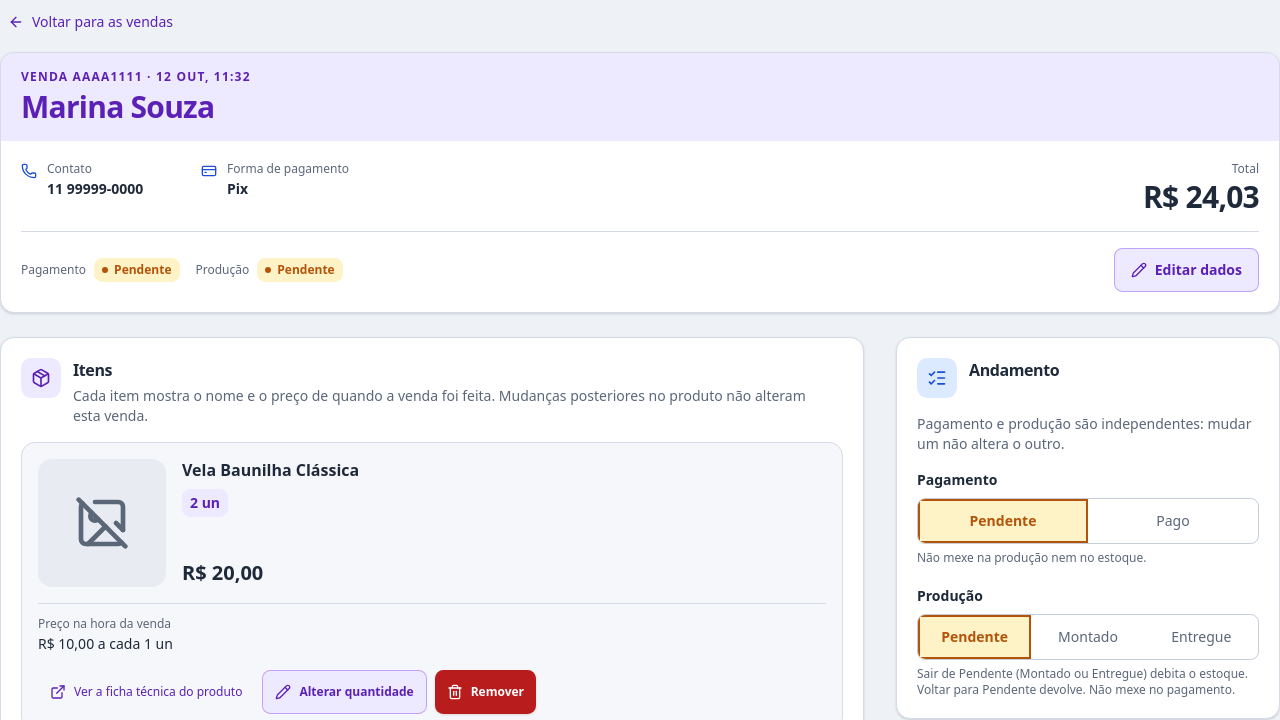
Test: assembling a sale › does not touch materials, products or shortages when only the payment changes
Check: the heading "Marina Souza" is shown, box 21,86 -> 214,127
Click the radio button labelled "Pago": (1173, 521) 1088,499 -> 1258,543
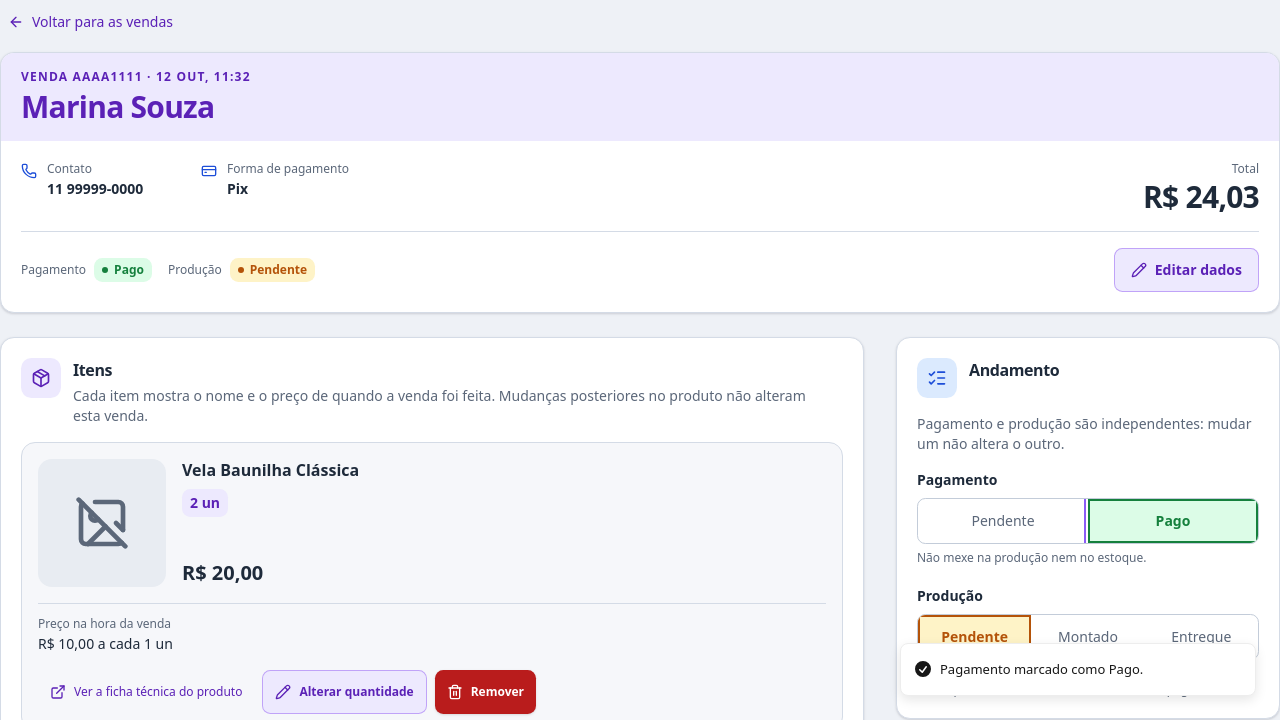
Check: the text "Pagamento marcado como Pago." is shown, box 940,660 -> 1143,679
